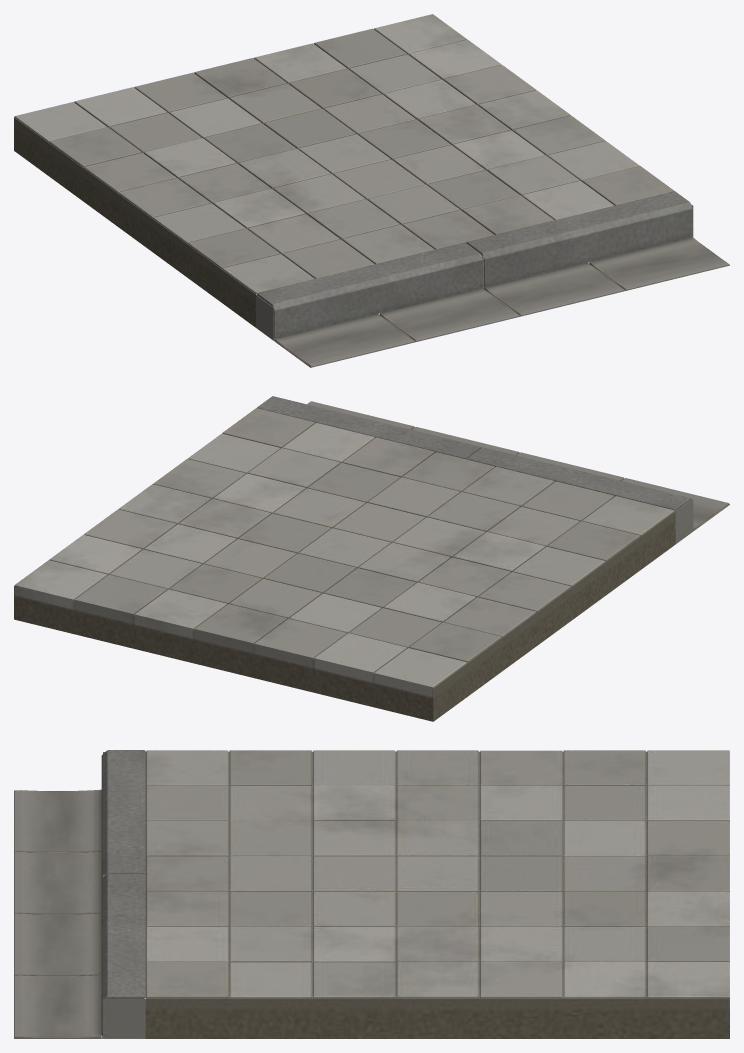
The model's file is curb-sidewalk-segment.glb.
The picture shows the model from 3 angles, top to bottom: view 1: azimuth 30°, elevation 25°; view 2: azimuth 150°, elevation 25°; view 3: azimuth 270°, elevation 25°; orthographic projection. The views are drawn at different scales.
Parts seen in each view (by area): view 1: curb-sidewalk-segment_body; view 2: curb-sidewalk-segment_body; view 3: curb-sidewalk-segment_body.
Part boxes in pixels (x1=…): curb-sidewalk-segment_body: x1=14, y1=14, x2=729, y2=367; curb-sidewalk-segment_body: x1=14, y1=396, x2=729, y2=721; curb-sidewalk-segment_body: x1=14, y1=750, x2=729, y2=1038.
Size of the model in its own units: 2 by 0.16 by 2.45.
1 material, 1 textured.
